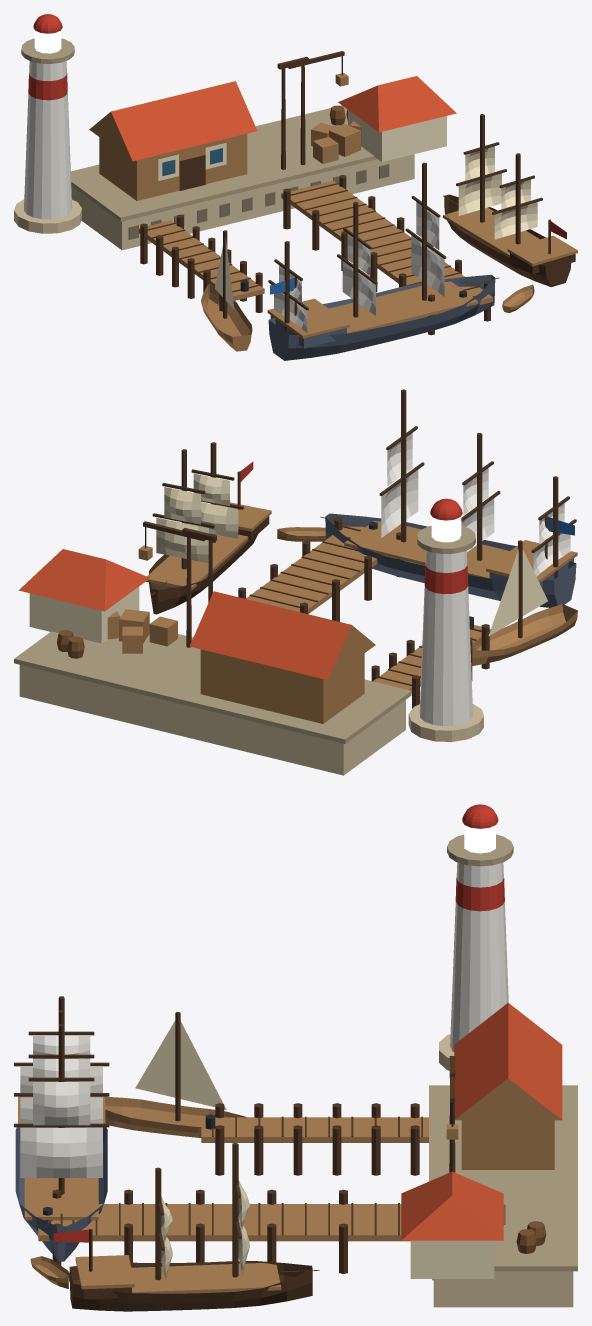
Rendered from district_harbor_3.fbx.
3 views of the same model, one above another, from view 1: azimuth 30°, elevation 25°; view 2: azimuth 150°, elevation 25°; view 3: azimuth 270°, elevation 25° (orthographic). The views are drawn at different scales.
Visible parts, largest first — view 1: district_harbor_3; view 2: district_harbor_3; view 3: district_harbor_3.
Part boxes in pixels (x1=…): district_harbor_3: x1=14, y1=14, x2=577, y2=360; district_harbor_3: x1=14, y1=389, x2=577, y2=775; district_harbor_3: x1=14, y1=804, x2=577, y2=1311.
Bounding box in the file's own units: 125 × 71.97 × 121.
